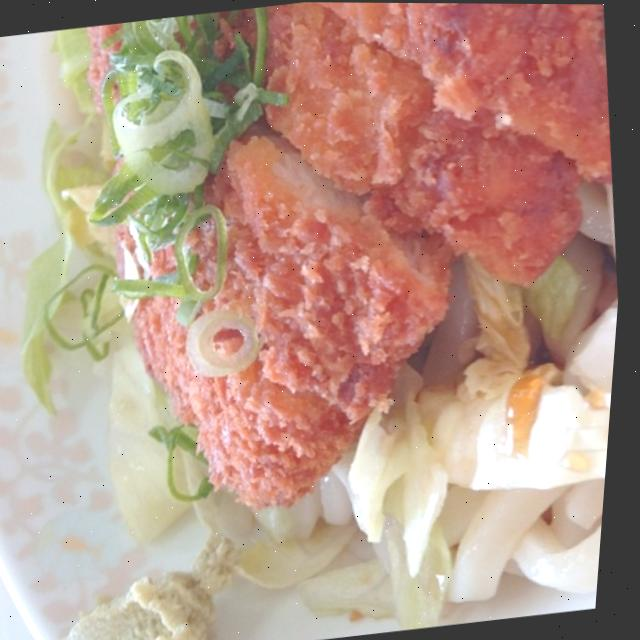鸡肉料理 含炸鸡: (22, 0, 640, 546)
